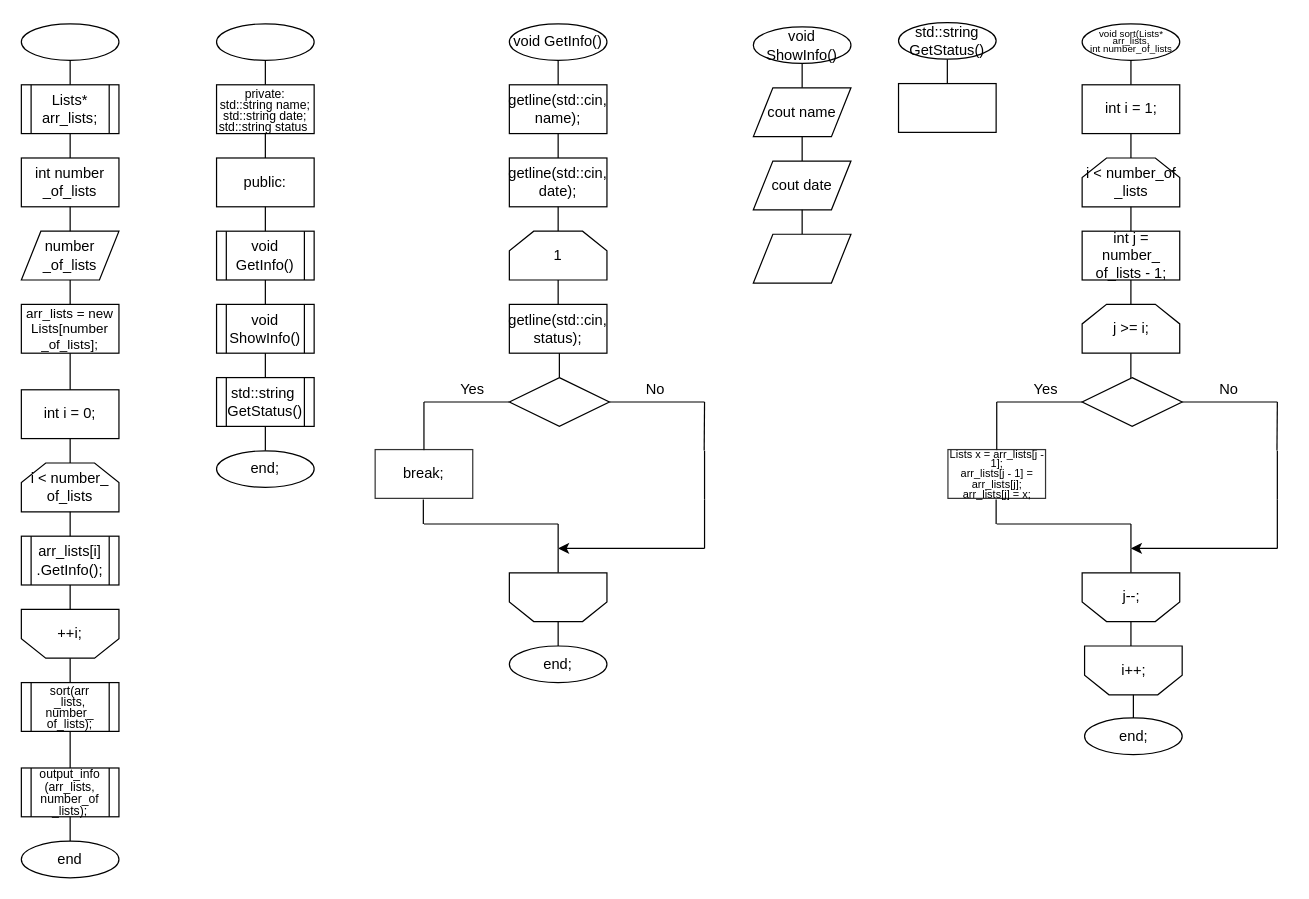
Some shapes in this 1309 by 899 pixel diagram are drawn without their labels. Each missing label, with the box of its shape:
begin (main): (20, 23, 119, 60)
bool if: (1081, 376, 1182, 426)
class Lists: (215, 23, 314, 60)
cout status: (752, 233, 851, 283)
return status;: (897, 82, 996, 132)
status == "ready" || status == "not ready": (508, 376, 609, 426)
